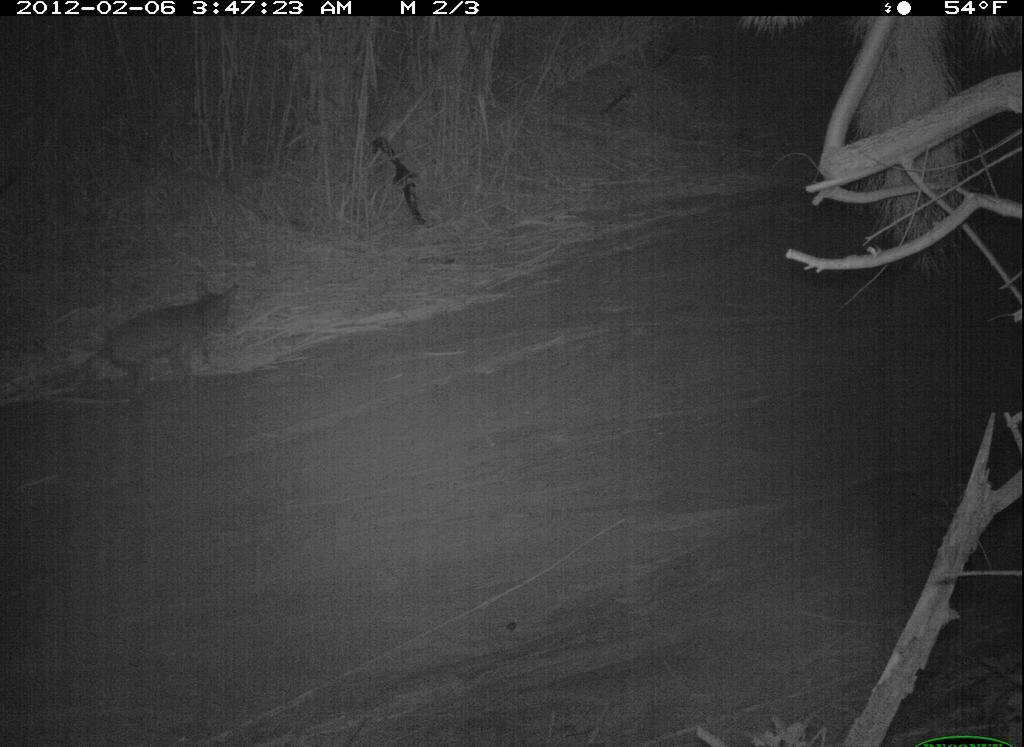coyote: (24, 271, 283, 406)
